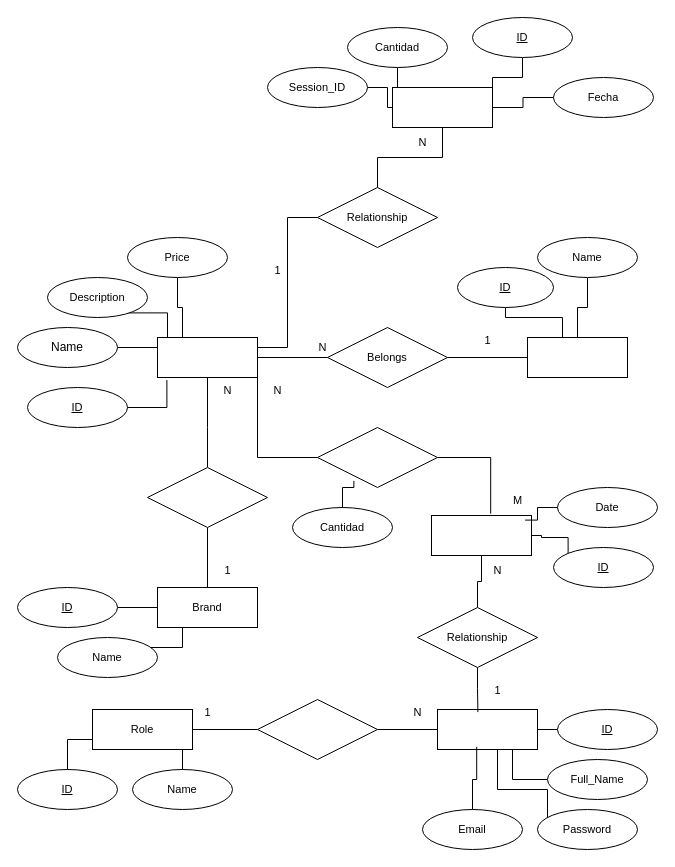
This 675x867 diagram has some shape labels left out. Here are the shapes that lost their labels. From the top down, the centre of each, then its label:
At (x=442, y=107): "Carrito_Anonimo".
At (x=207, y=357): "Product".
At (x=577, y=357): "Category".
At (x=377, y=457): "Detail".
At (x=207, y=497): "Have".
At (x=481, y=535): "Shopping_Carts".
At (x=317, y=729): "Has".
At (x=487, y=729): "Client".
